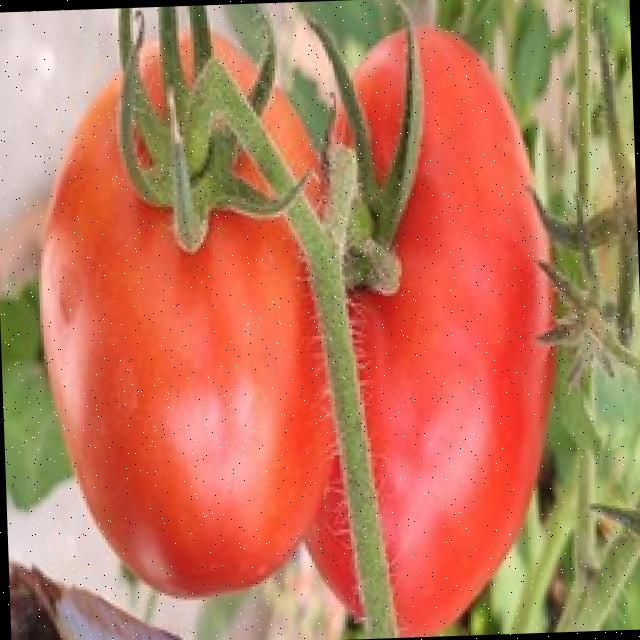tomato: (41, 78, 334, 595), (349, 26, 553, 637)
